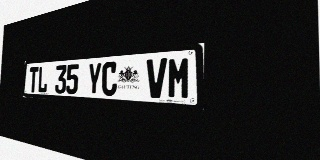3: (55, 65, 67, 94)
5: (66, 64, 79, 94)
C: (101, 61, 118, 96)
L: (37, 66, 48, 93)
M: (167, 56, 191, 99)
T: (29, 67, 39, 93)
V: (146, 58, 167, 98)
Y: (87, 62, 102, 95)
